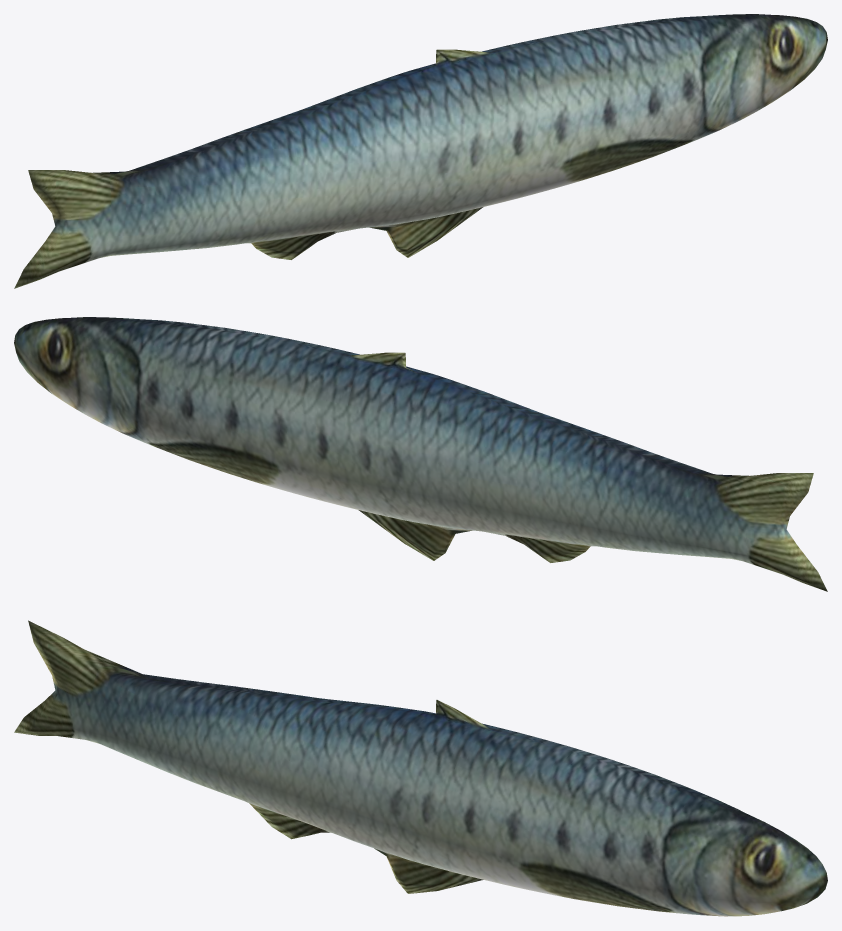
Rendered from anchoveta.glb.
3 views of the same model, one above another, from view 1: azimuth 30°, elevation 25°; view 2: azimuth 150°, elevation 25°; view 3: azimuth 330°, elevation 25° (orthographic).
Parts seen in each view (by area): view 1: pez; view 2: pez; view 3: pez.
Boxes of the visible parts, left/top/right/bottom form: pez: left=14, top=14, right=827, bottom=288; pez: left=14, top=317, right=827, bottom=591; pez: left=14, top=620, right=827, bottom=916.
Size of the model in its own units: 1 by 0.2366 by 0.1041.
Materials: 1 (1 with a texture image).
